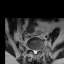CCS_normal: (34, 46, 36, 56)
LFS_normal: (38, 46, 40, 53)
LLS_normal: (36, 46, 38, 55)
RFS_stenosis: (31, 46, 32, 52)
RLS_normal: (32, 46, 34, 55)
